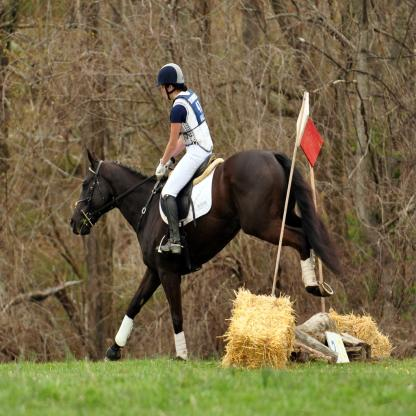Helmet: (152, 64, 184, 101)
